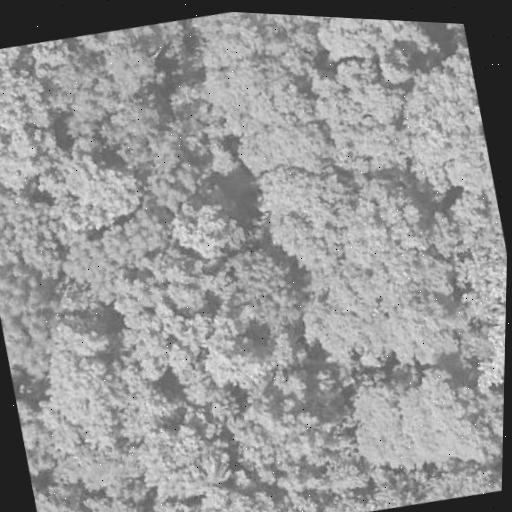tree-top: (252, 148, 463, 387), (333, 345, 498, 492), (198, 37, 336, 188), (105, 243, 240, 385), (384, 51, 497, 205), (38, 19, 167, 138), (29, 307, 133, 449), (224, 367, 342, 479), (324, 166, 437, 273), (306, 46, 419, 151), (436, 197, 508, 359), (0, 39, 71, 196), (133, 411, 240, 512), (45, 138, 149, 238), (220, 238, 313, 345), (125, 86, 213, 199), (301, 16, 438, 85), (160, 181, 257, 276), (371, 447, 503, 512), (0, 249, 72, 368), (0, 174, 64, 272), (164, 468, 293, 512), (125, 14, 201, 60), (11, 379, 49, 457), (85, 478, 165, 512), (31, 473, 100, 512), (425, 22, 464, 36)
